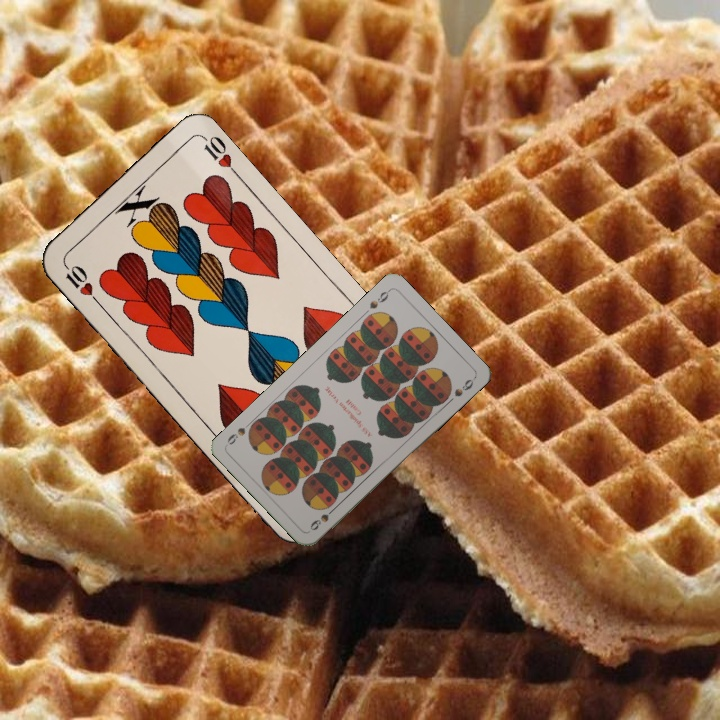H10: (59, 257, 102, 306)
S9: (306, 502, 339, 533), (365, 285, 393, 312)
